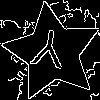Y: (28, 28, 68, 78)
